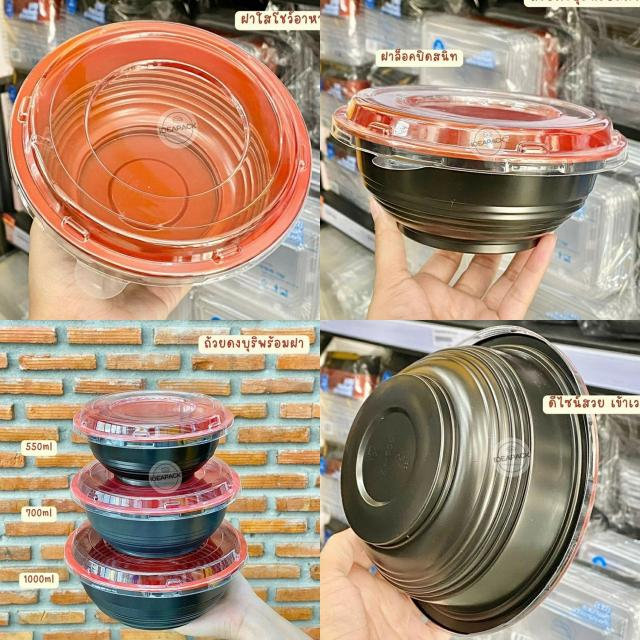Single-Use-Plastic: (341, 326, 601, 634), (10, 21, 311, 285), (332, 86, 626, 254), (65, 520, 248, 630), (70, 458, 241, 558), (72, 391, 234, 490)
